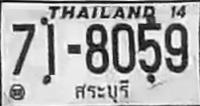0: (111, 22, 135, 73)
1: (48, 23, 55, 76)
5: (138, 20, 160, 74)
7: (12, 23, 34, 75)
8: (85, 23, 108, 73)
9: (164, 22, 187, 72)
SRI: (71, 79, 132, 104)
